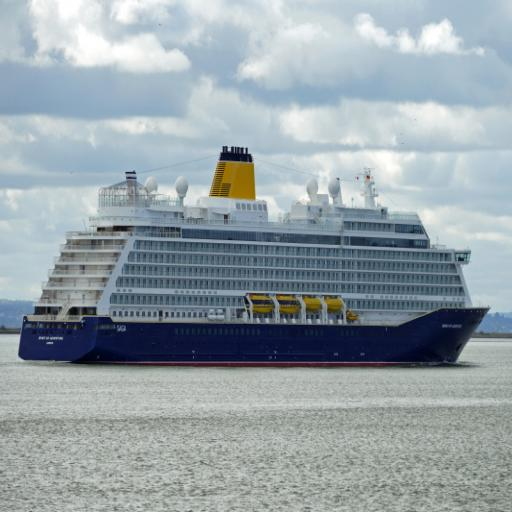cruises: (18, 144, 494, 372)
